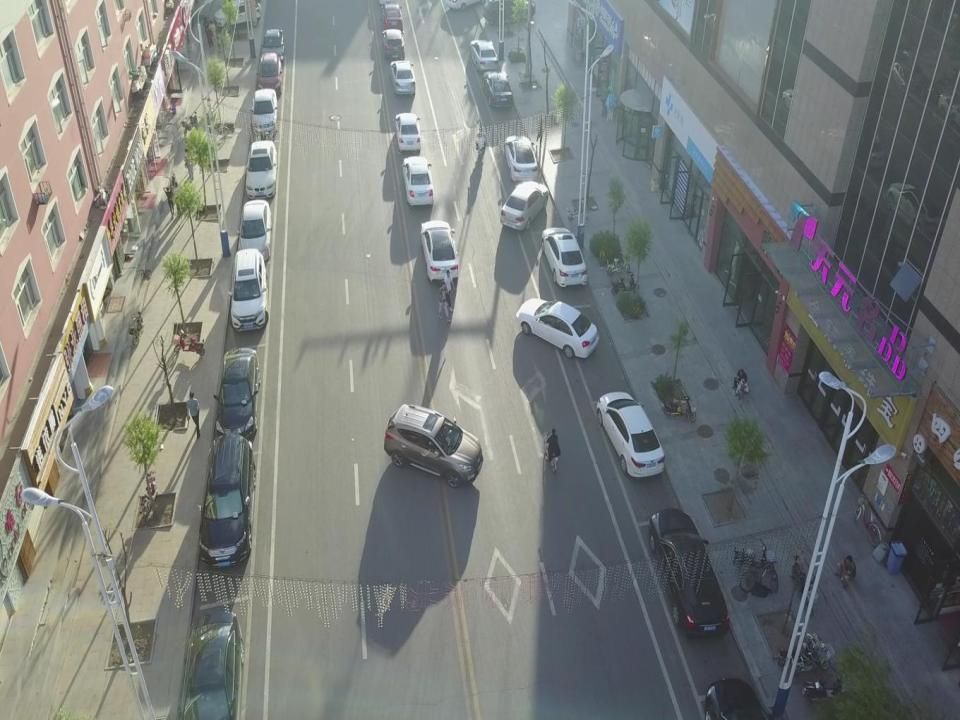car: (648, 508, 730, 637), (383, 402, 483, 486), (197, 433, 256, 570), (176, 612, 244, 720), (595, 391, 664, 477), (517, 298, 599, 357), (213, 349, 261, 442), (228, 248, 269, 330), (541, 227, 587, 286), (420, 219, 459, 282), (500, 180, 548, 228), (237, 198, 272, 262), (244, 140, 278, 199), (504, 136, 538, 184), (402, 155, 434, 205), (214, 0, 262, 32), (251, 88, 278, 134), (481, 71, 514, 108), (256, 52, 283, 97), (484, 0, 535, 23), (394, 113, 421, 154), (469, 40, 498, 74), (390, 59, 416, 96), (261, 28, 285, 62), (383, 29, 405, 61), (380, 3, 404, 32)
